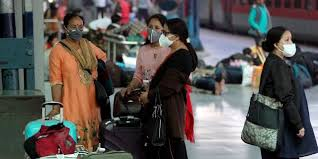mask: (268, 26, 297, 58), (158, 18, 181, 50), (64, 14, 85, 40), (143, 18, 159, 47)
